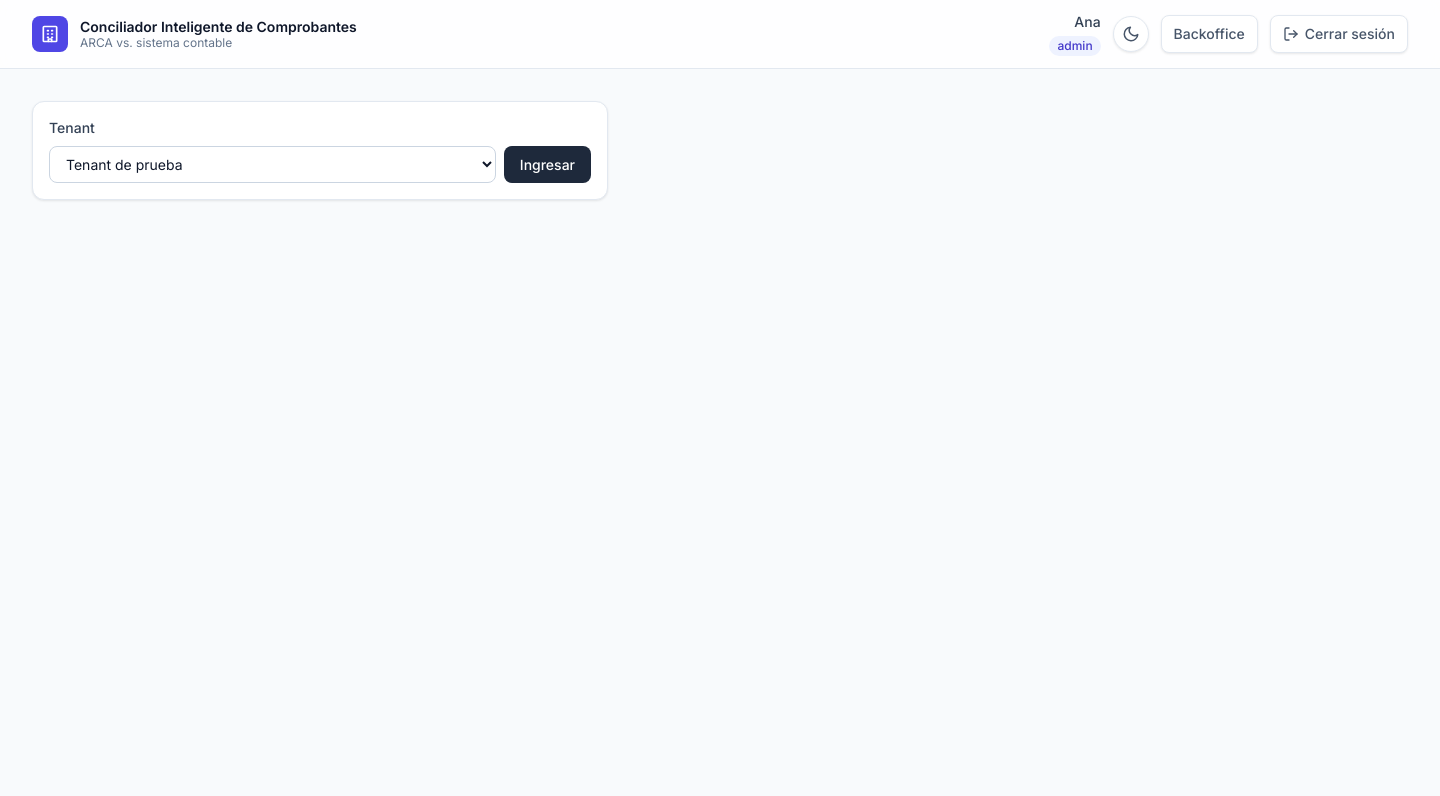
Test case: 2026-08-23: "Ver histórico de pendientes ARCA" swaps the period report, not stacks below it › replaces the período report with PendientesHistoricoViewer on click, and restores it on toggle-off
Select "Tenant de prueba" in the dropdown labelled "Tenant" at (272, 164), box left=49, top=146, right=496, bottom=183
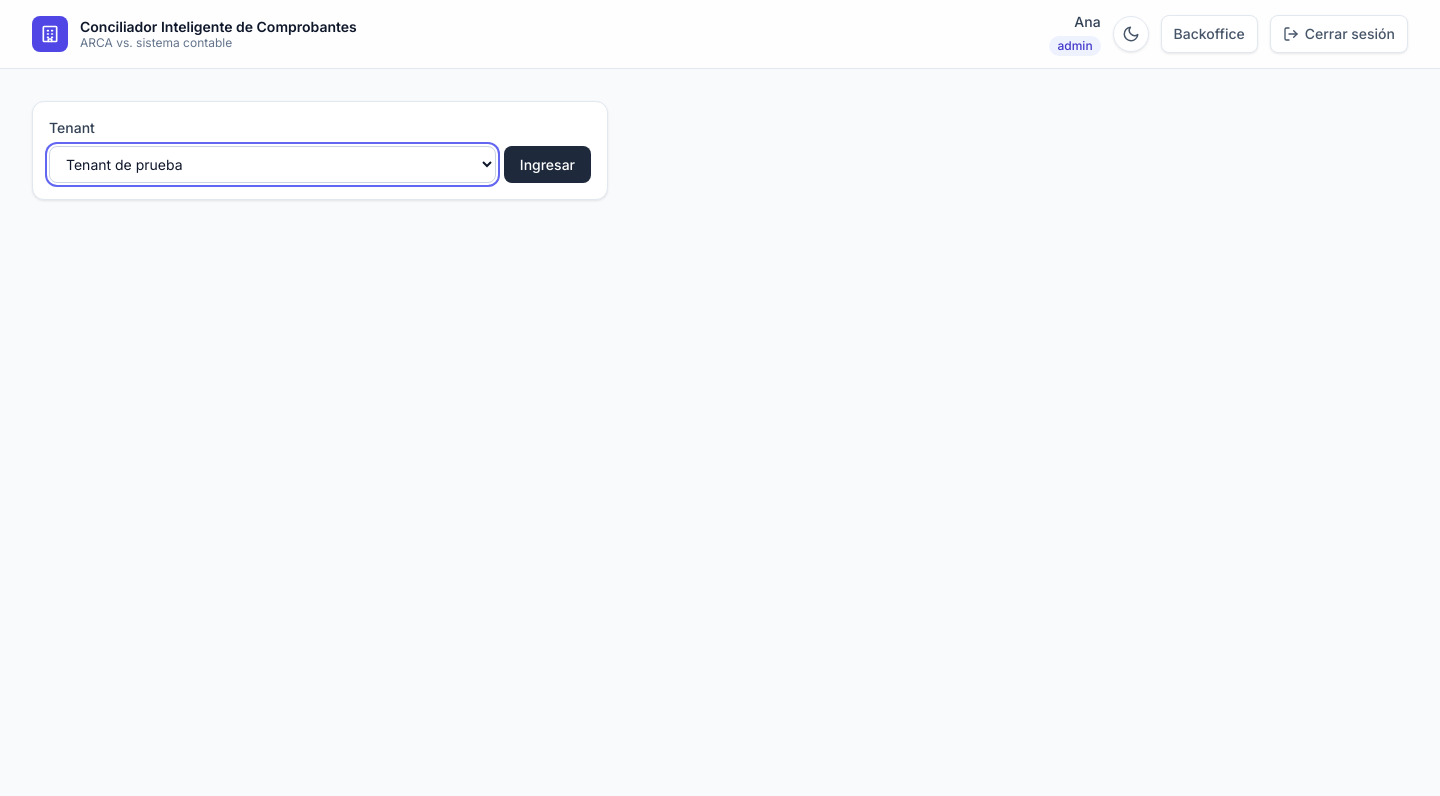
Click the button "Ingresar" at (547, 164), box left=504, top=146, right=591, bottom=183
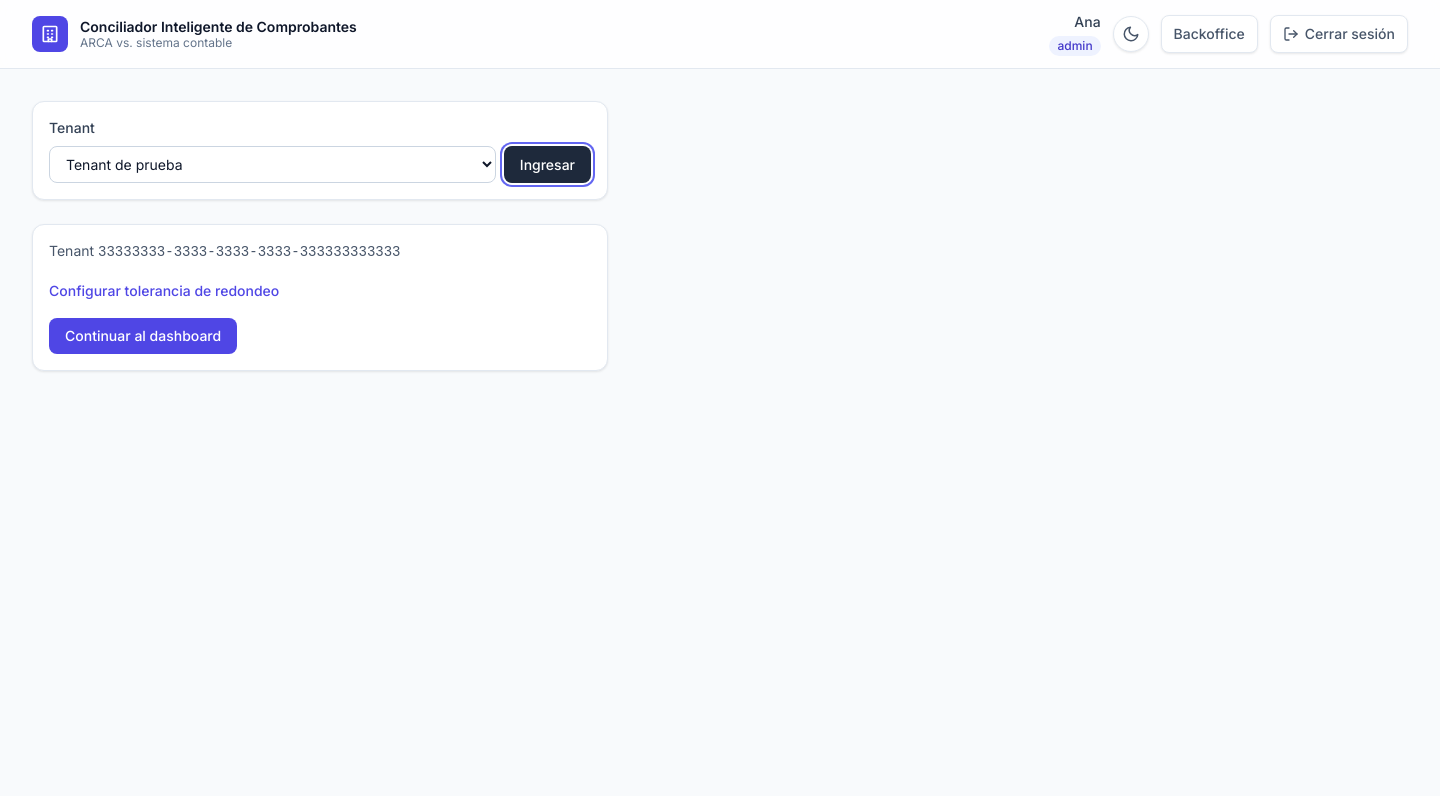
Click the button "Continuar al dashboard" at (143, 336), box left=49, top=318, right=237, bottom=354
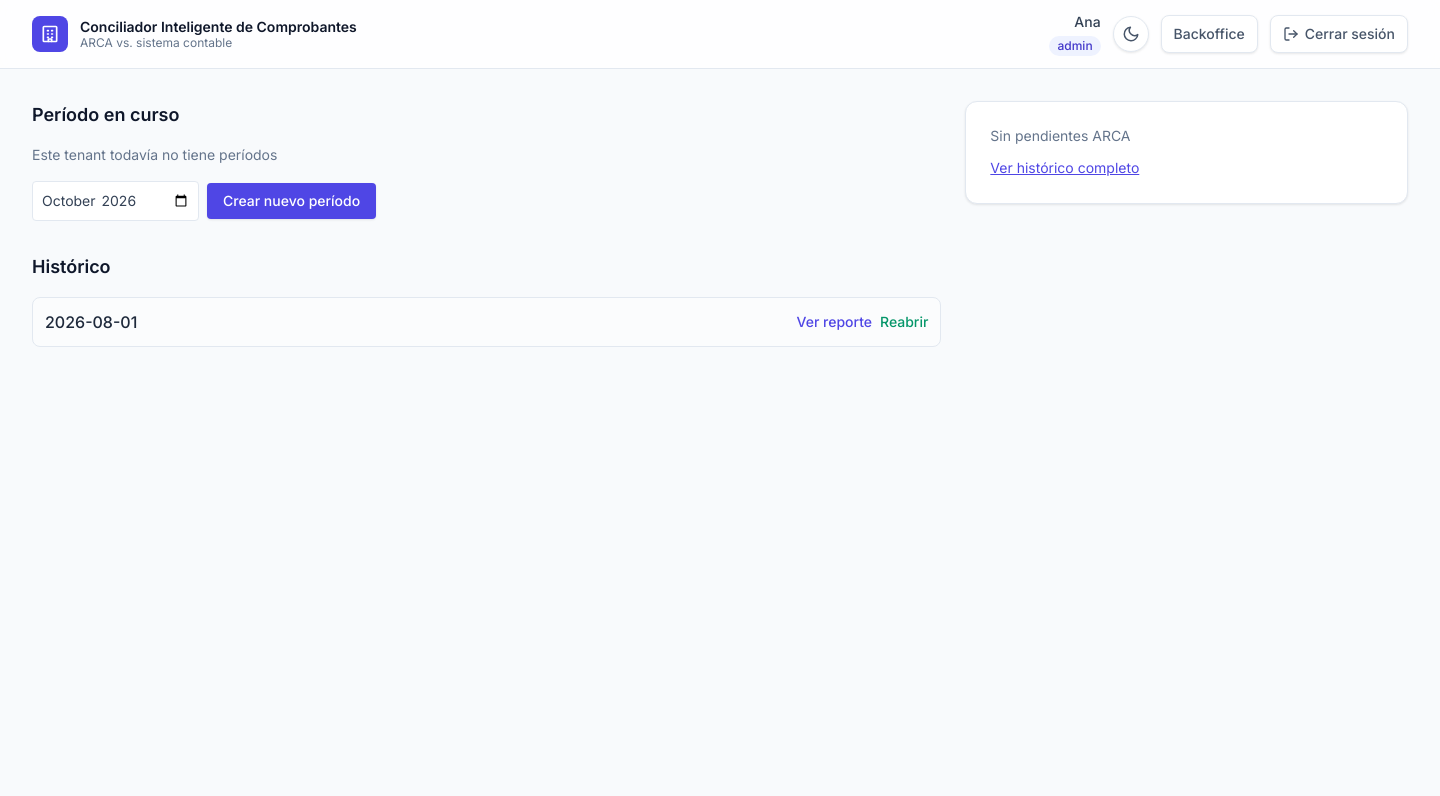
Click the button "Ver reporte" at (834, 322), box left=796, top=312, right=872, bottom=332
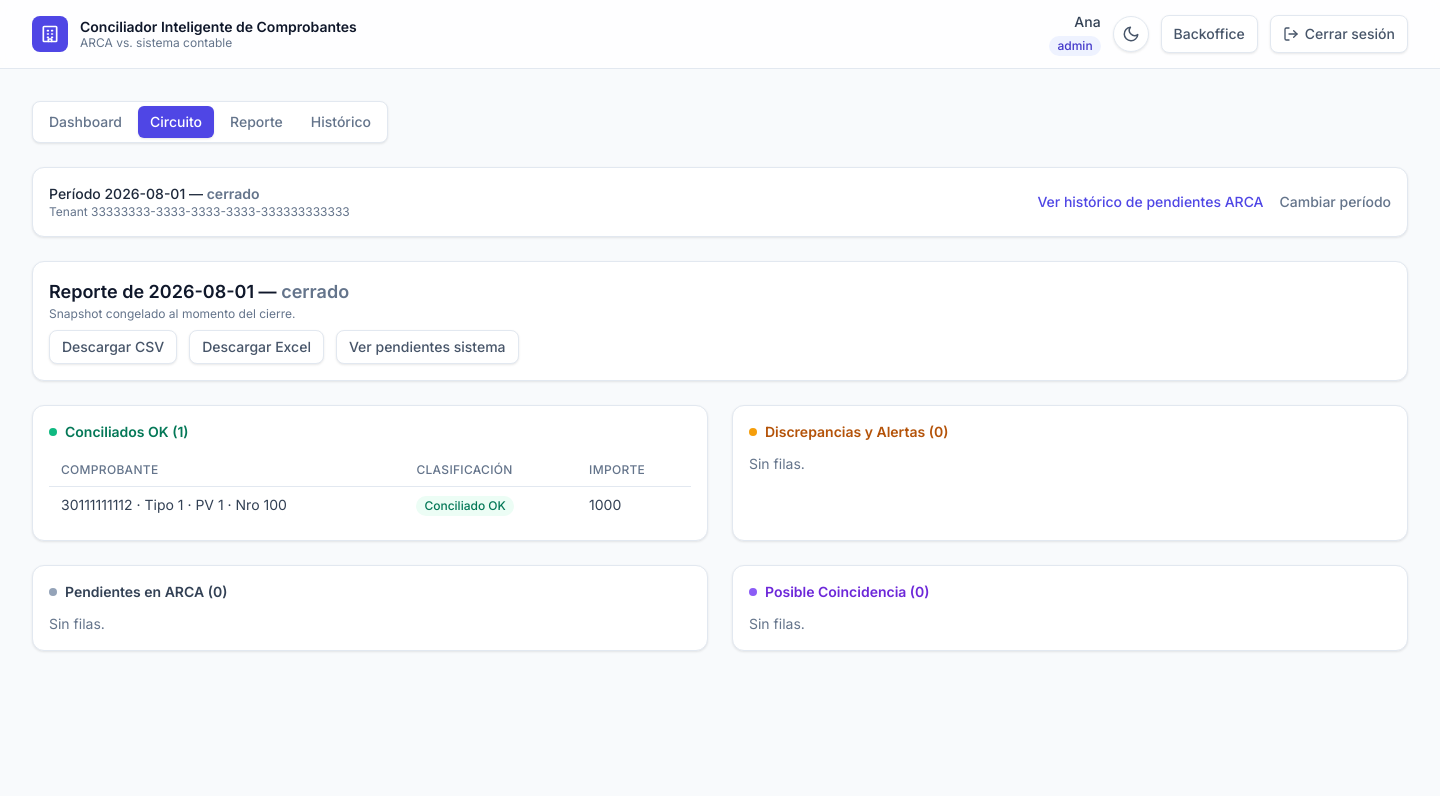
Check: the heading "Conciliados OK (1)" is shown, box left=49, top=423, right=189, bottom=440
Click the button "Ver histórico de pendientes ARCA" at (1150, 202), box left=1037, top=192, right=1264, bottom=212
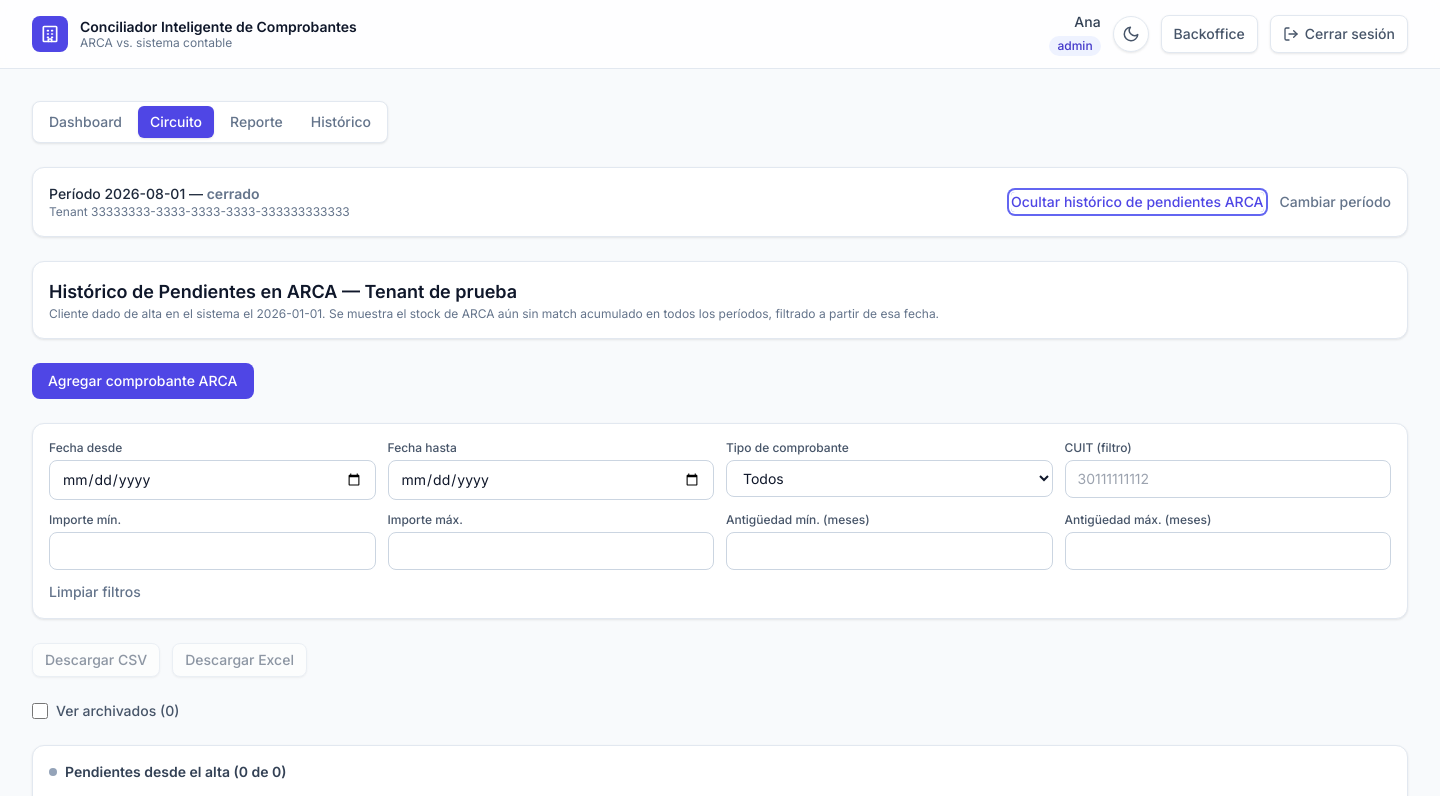
Check: the heading "Conciliados OK (1)" is gone
Check: the heading "Histórico de Pendientes en ARCA — Tenant de prueba" is shown, box left=49, top=281, right=517, bottom=302
Check: the button "Ocultar histórico de pendientes ARCA" is shown
Click the button "Ocultar histórico de pendientes ARCA" at (1137, 202), box left=1011, top=192, right=1264, bottom=212
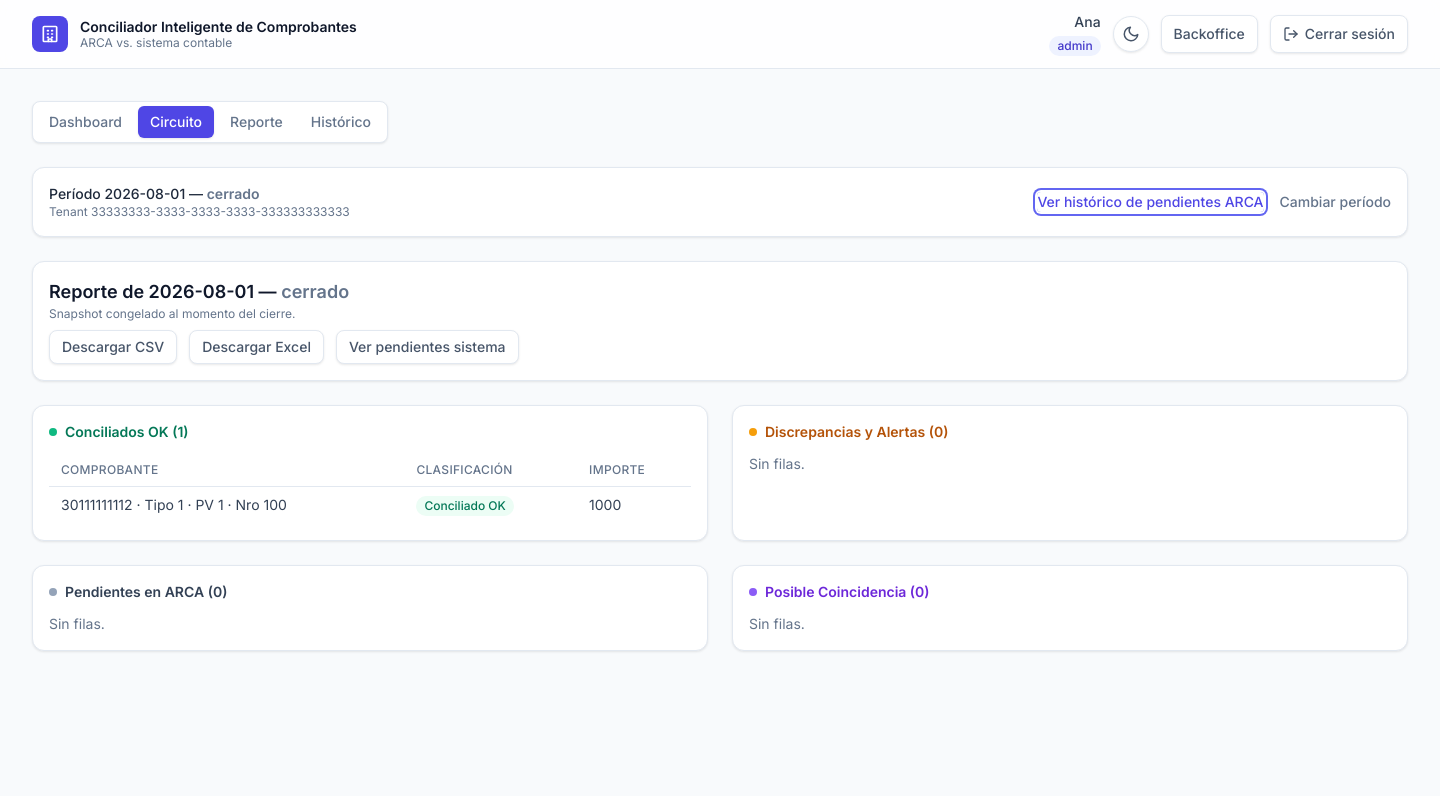
Check: the heading "Conciliados OK (1)" is shown, box left=49, top=423, right=189, bottom=440
Check: the heading "Histórico de Pendientes en ARCA" is gone
